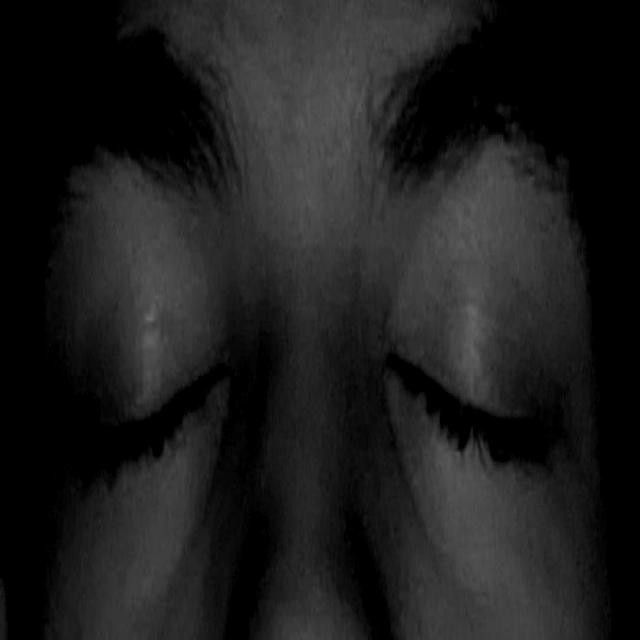real: (54, 184, 578, 572)
